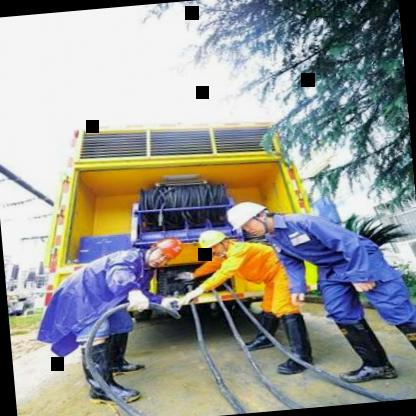helmet: (223, 197, 277, 238), (132, 236, 190, 274), (194, 224, 236, 258)
